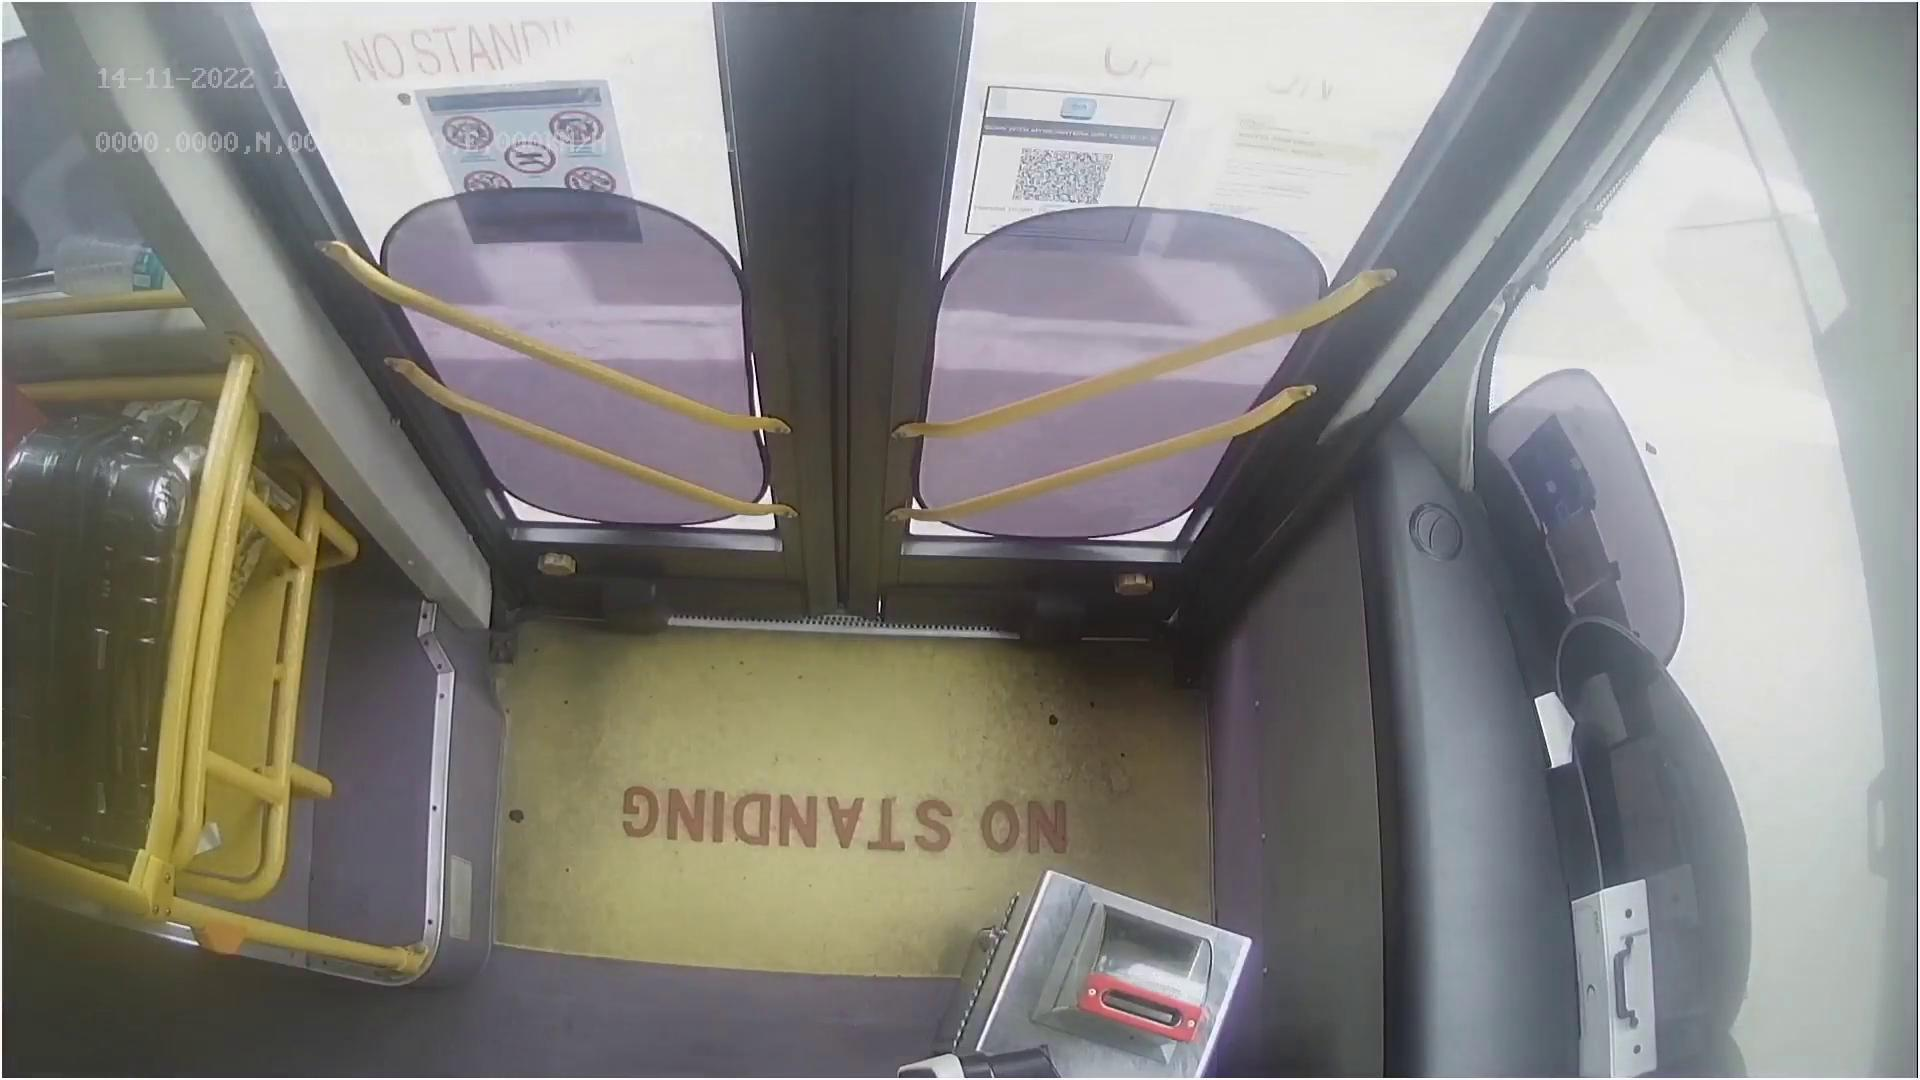close: (289, 0, 1429, 175)
